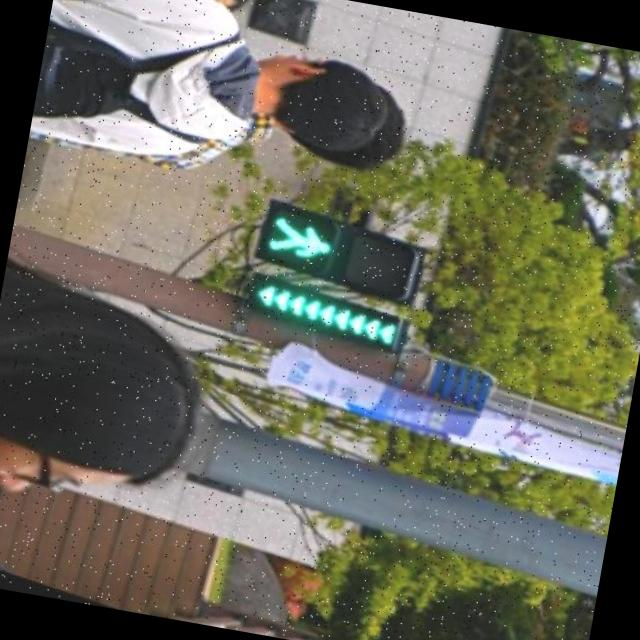green_light: (257, 205, 337, 274)
